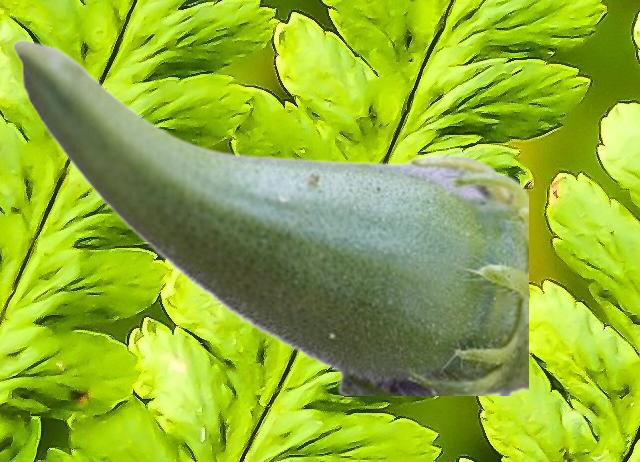okra: (11, 38, 527, 394)
